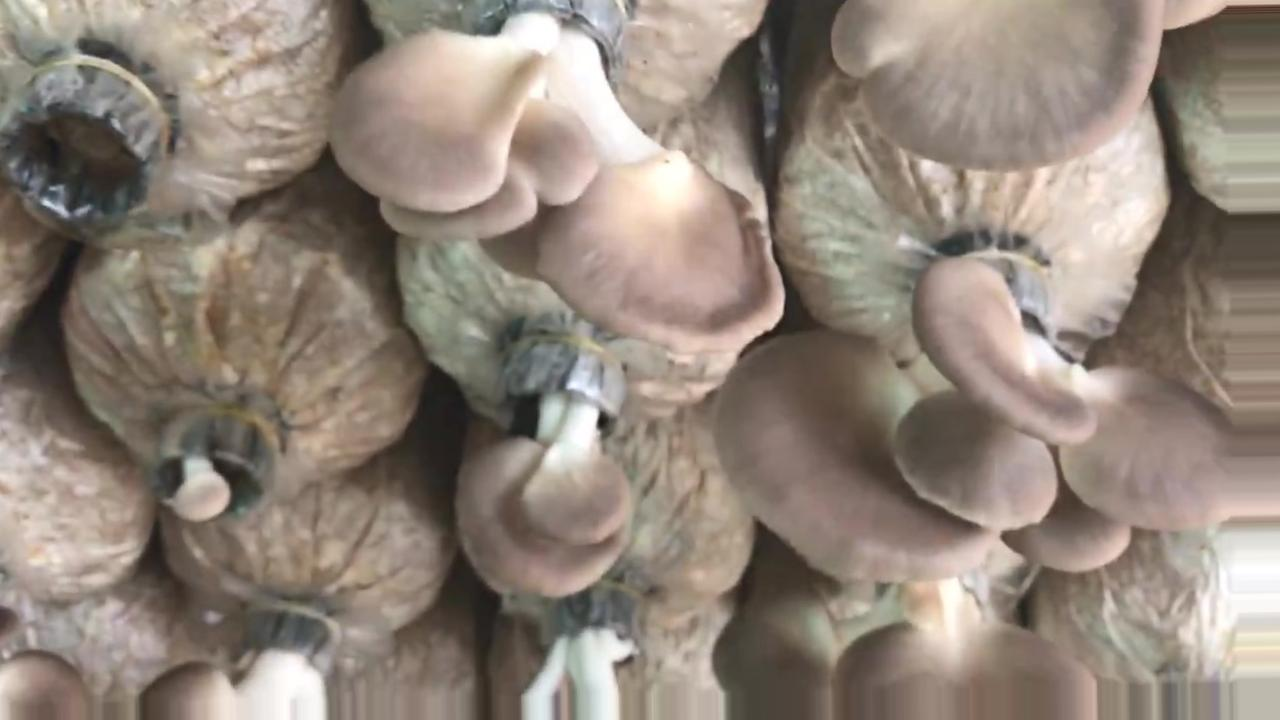nam: (716, 251, 1280, 576), (333, 1, 782, 352), (835, 1, 1235, 169), (715, 580, 1099, 720), (454, 338, 630, 600), (140, 618, 331, 720), (523, 584, 630, 720), (149, 405, 272, 523), (1, 610, 84, 717)
